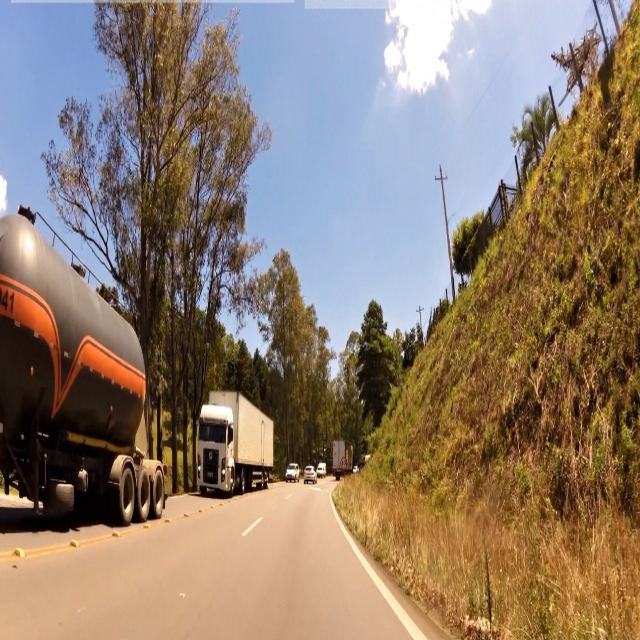R-19: (340, 457, 347, 469)
